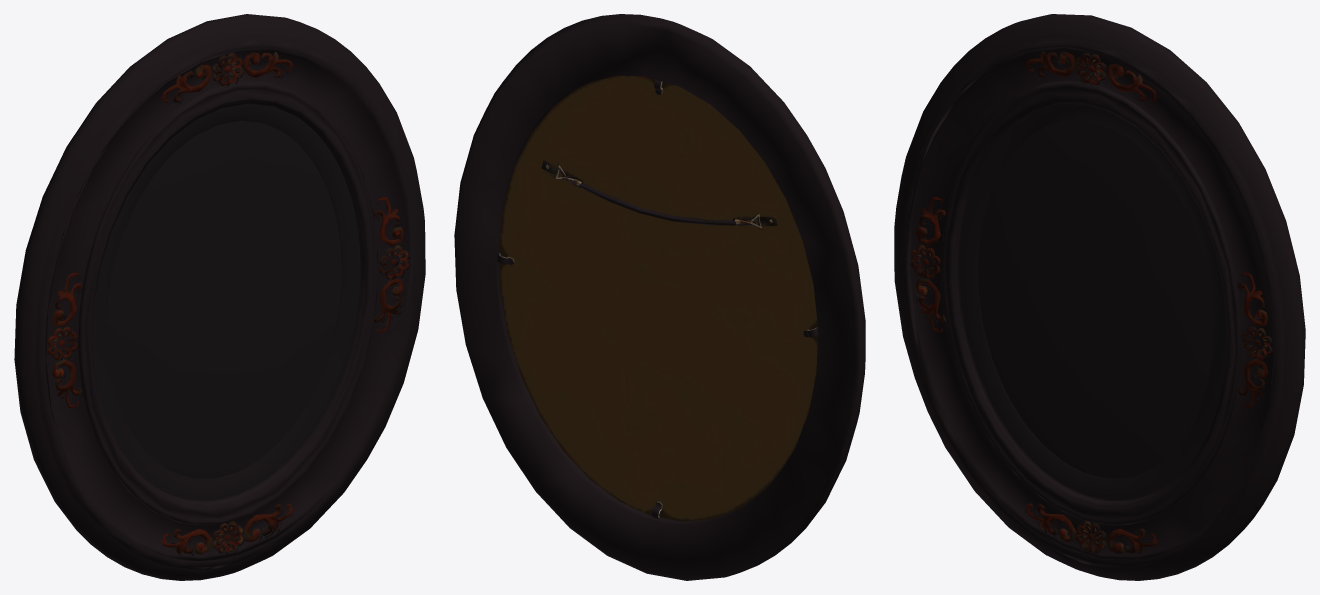
File: SM_Int_FrameC.fbx
3 views of the same model, side by side, from view 1: azimuth 30°, elevation 25°; view 2: azimuth 150°, elevation 25°; view 3: azimuth 330°, elevation 25° (orthographic).
Parts seen in each view (by area): view 1: SM_Int_FrameC; view 2: SM_Int_FrameC; view 3: SM_Int_FrameC.
Part boxes in pixels (x1,y1,x2,y2): SM_Int_FrameC: (14,14,425,580); SM_Int_FrameC: (454,14,865,580); SM_Int_FrameC: (894,14,1305,580).
Size of the model in its own units: 0.3891 by 0.5066 by 0.0357.
